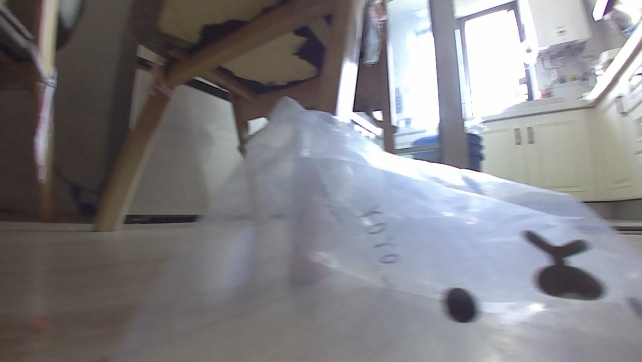cupboard: (478, 17, 641, 223)
